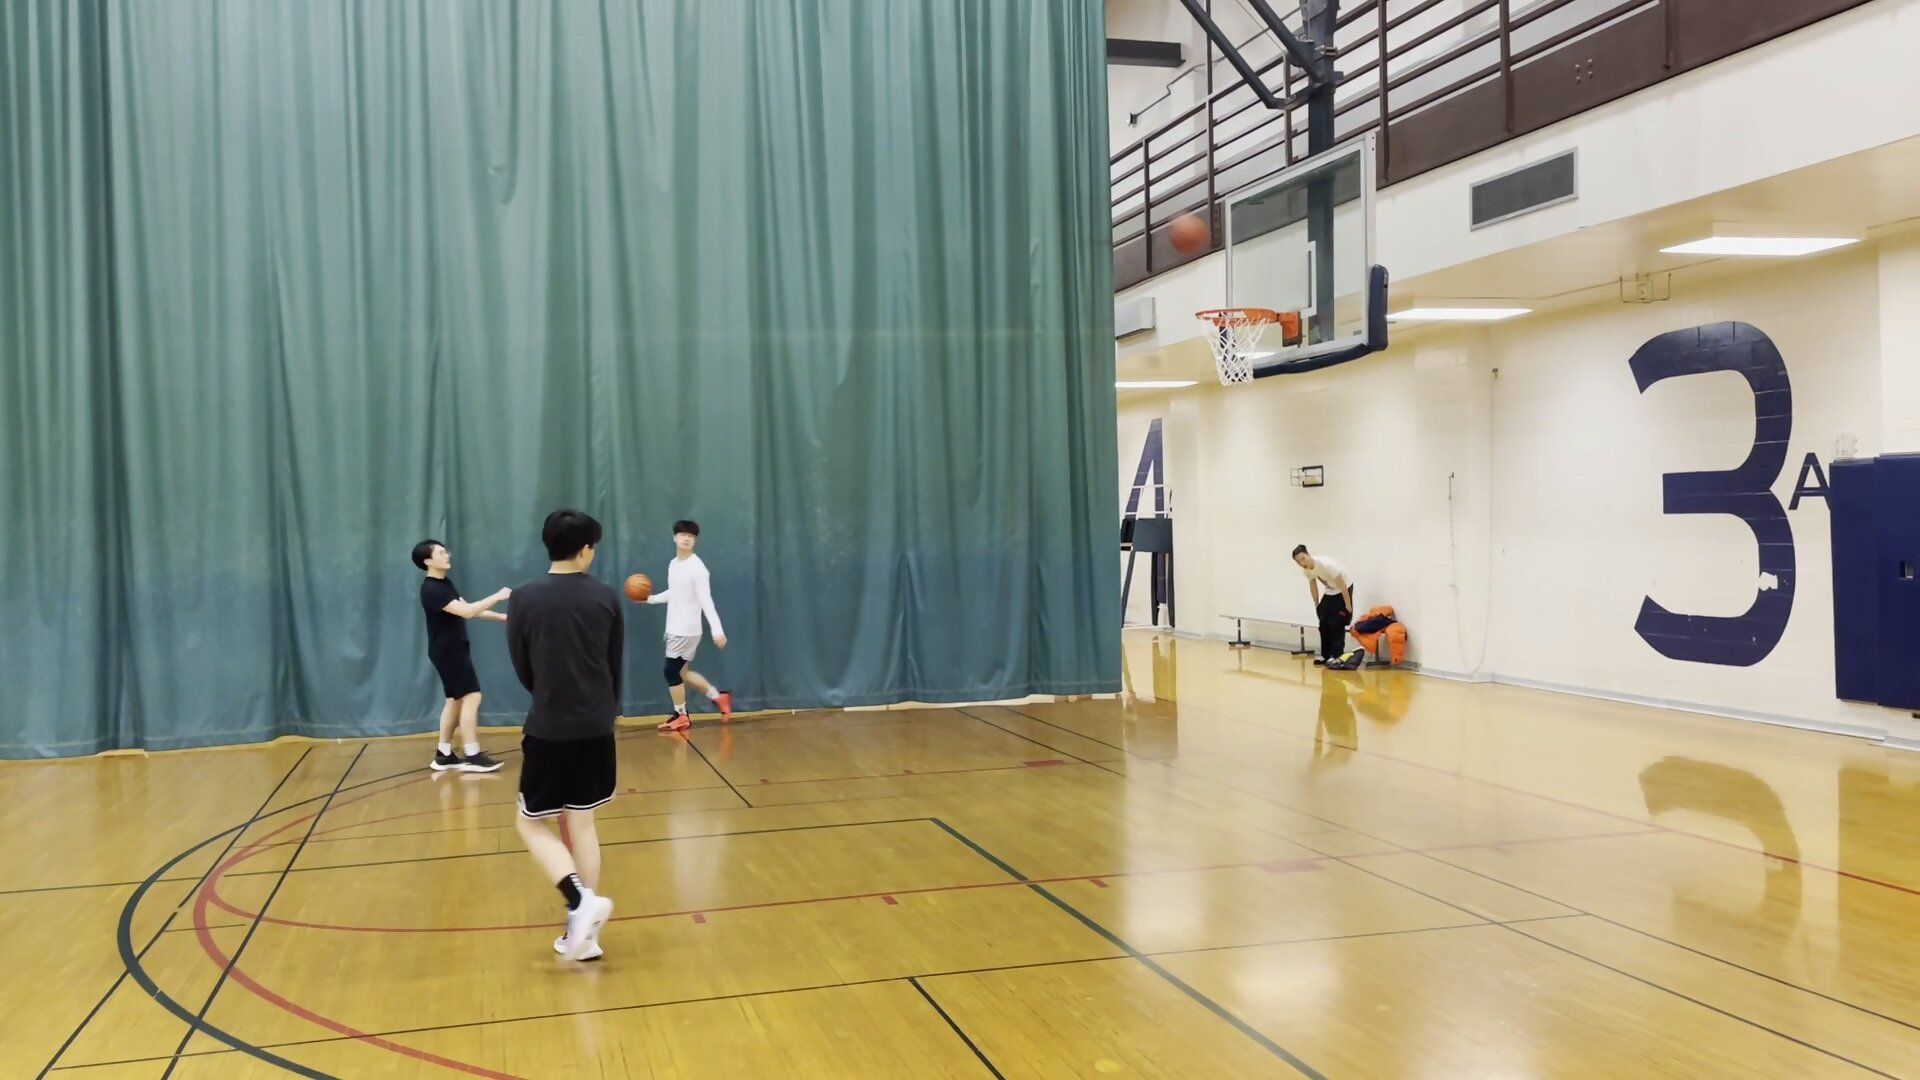ball: (1158, 211, 1217, 259), (619, 572, 660, 607)
net: (1206, 360, 1273, 393)
player: (508, 508, 634, 967), (405, 538, 514, 777), (646, 516, 738, 734), (1287, 539, 1363, 670)
rim: (1192, 305, 1279, 331)
